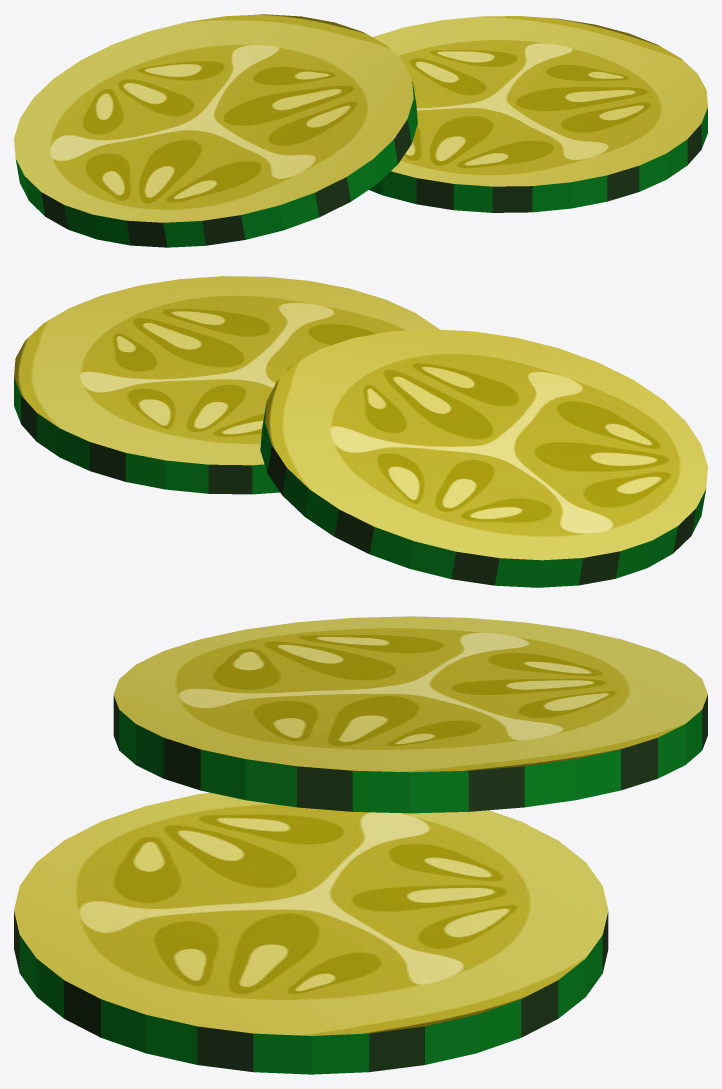
The model's file is SlicedCucumber.fbx.
3 renders of one model, top to bottom at view 1: azimuth 30°, elevation 25°; view 2: azimuth 150°, elevation 25°; view 3: azimuth 270°, elevation 25°, orthographic. The views are drawn at different scales.
Visible parts, largest first — view 1: Cylinder.001, Cylinder; view 2: Cylinder.001, Cylinder; view 3: Cylinder, Cylinder.001.
Part boxes in pixels (x1=…): Cylinder.001: x1=14, y1=14, x2=417, y2=247; Cylinder: x1=369, y1=16, x2=707, y2=212; Cylinder.001: x1=260, y1=329, x2=707, y2=587; Cylinder: x1=14, y1=276, x2=439, y2=494; Cylinder: x1=14, y1=792, x2=608, y2=1074; Cylinder.001: x1=113, y1=616, x2=707, y2=813.
Bounding box in the file's own units: 346 × 48.18 × 233.
3 materials, 1 textured.
